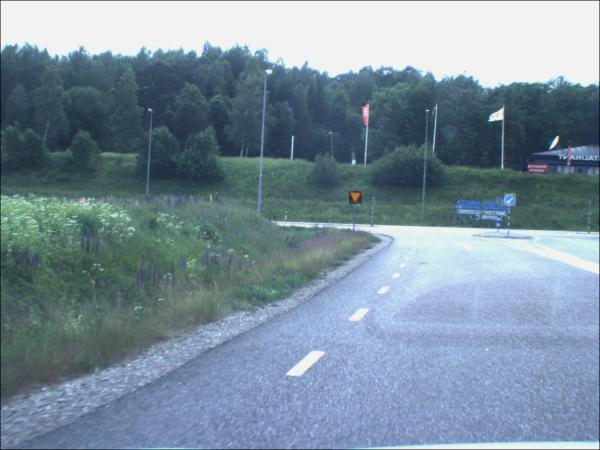GIVE_WAY: (349, 192, 363, 206)
PASS_RIGHT_SIDE: (504, 194, 517, 208)
